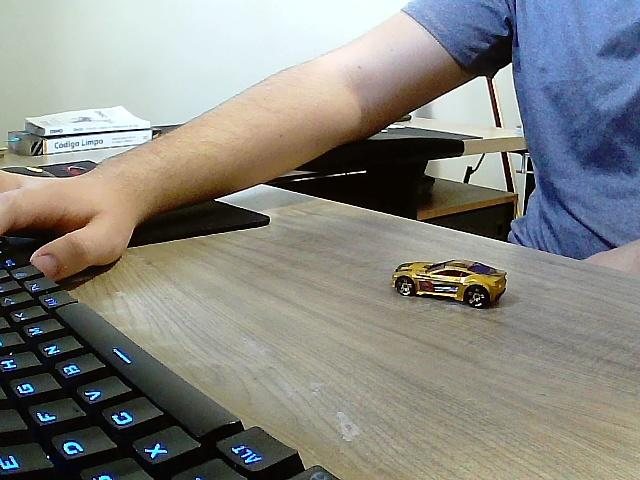Carro: (393, 263, 507, 310)
